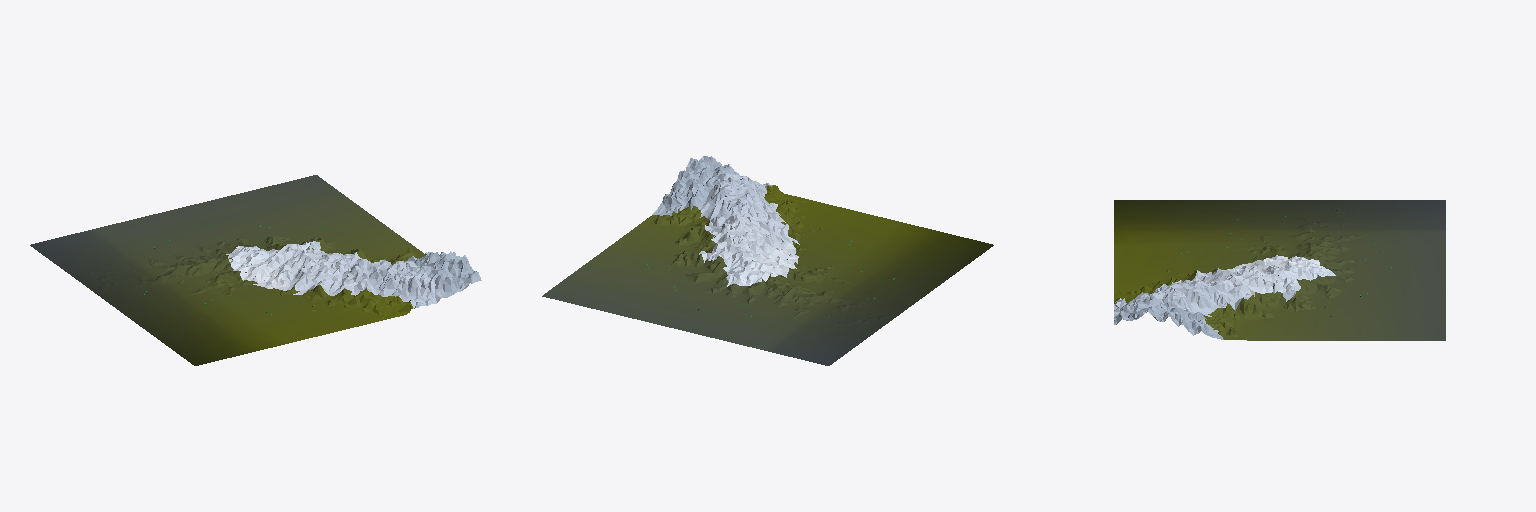
The picture shows the model from 3 angles: view 1: azimuth 30°, elevation 25°; view 2: azimuth 150°, elevation 25°; view 3: azimuth 270°, elevation 25°; orthographic projection.
Visible parts, largest first — view 1: default_default_Material.002, default.001_default.001_Material.004; view 2: default_default_Material.002, default.001_default.001_Material.004; view 3: default_default_Material.002, default.001_default.001_Material.004.
Boxes of the visible parts, <box> form: default_default_Material.002: <box>30,175,424,365</box>; default.001_default.001_Material.004: <box>226,241,481,308</box>; default_default_Material.002: <box>542,185,993,365</box>; default.001_default.001_Material.004: <box>652,156,799,286</box>; default_default_Material.002: <box>1114,200,1445,340</box>; default.001_default.001_Material.004: <box>1114,255,1335,339</box>.
Size of the model in its own units: 5008 by 486 by 5001.
Materials: 6 (2 with a texture image).